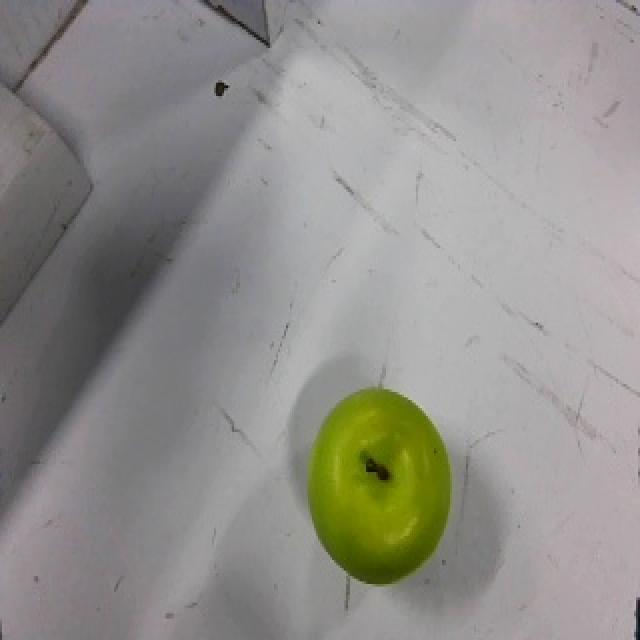apple: (306, 384, 452, 584)
